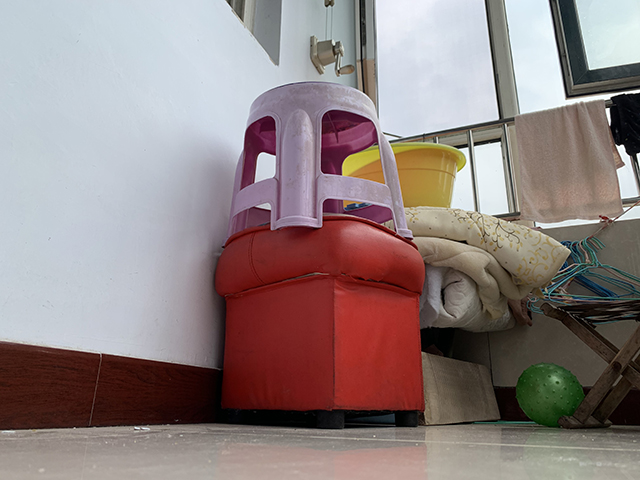stool: (213, 213, 427, 428), (539, 295, 640, 433)
